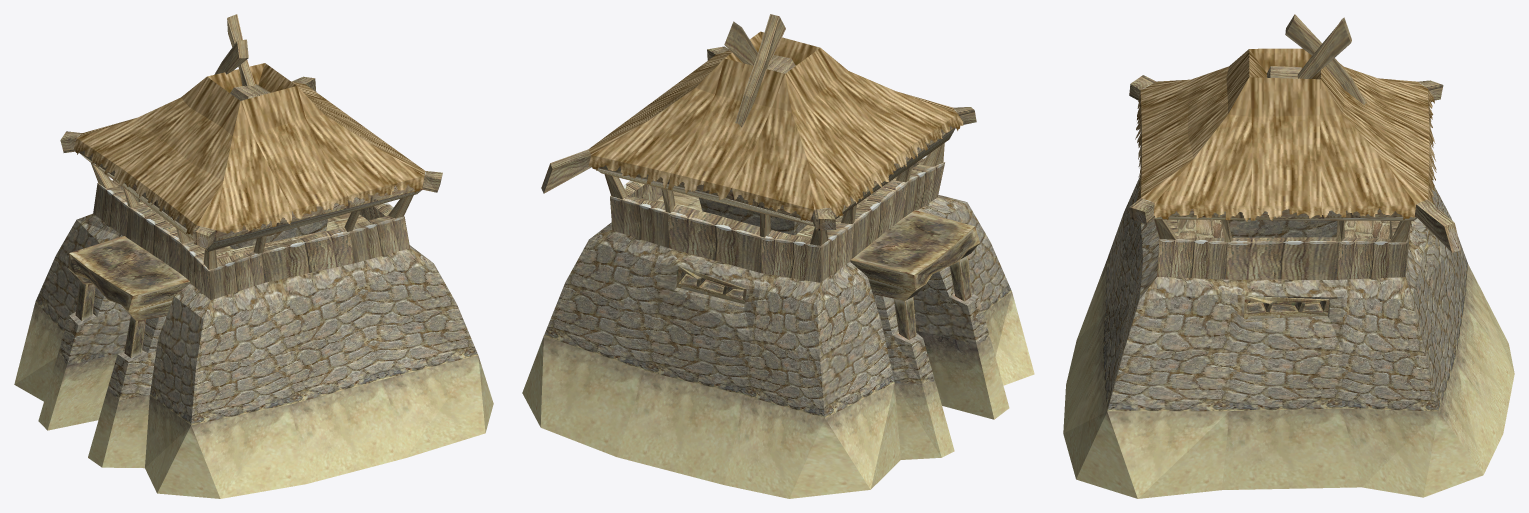
File: C3SMMINIHUT1H.obj
The picture shows the model from 3 angles, left to right: view 1: azimuth 30°, elevation 25°; view 2: azimuth 150°, elevation 25°; view 3: azimuth 270°, elevation 25°; orthographic projection. The views are drawn at different scales.
Parts seen in each view (by area): view 1: Node 0; view 2: Node 0; view 3: Node 0.
Part boxes in pixels (bbox=[...]): Node 0: bbox=[14, 14, 493, 498]; Node 0: bbox=[522, 14, 1034, 498]; Node 0: bbox=[1063, 14, 1514, 498].
Size of the model in its own units: 16.34 by 15.72 by 16.22.
Materials: 4 (4 with a texture image).
